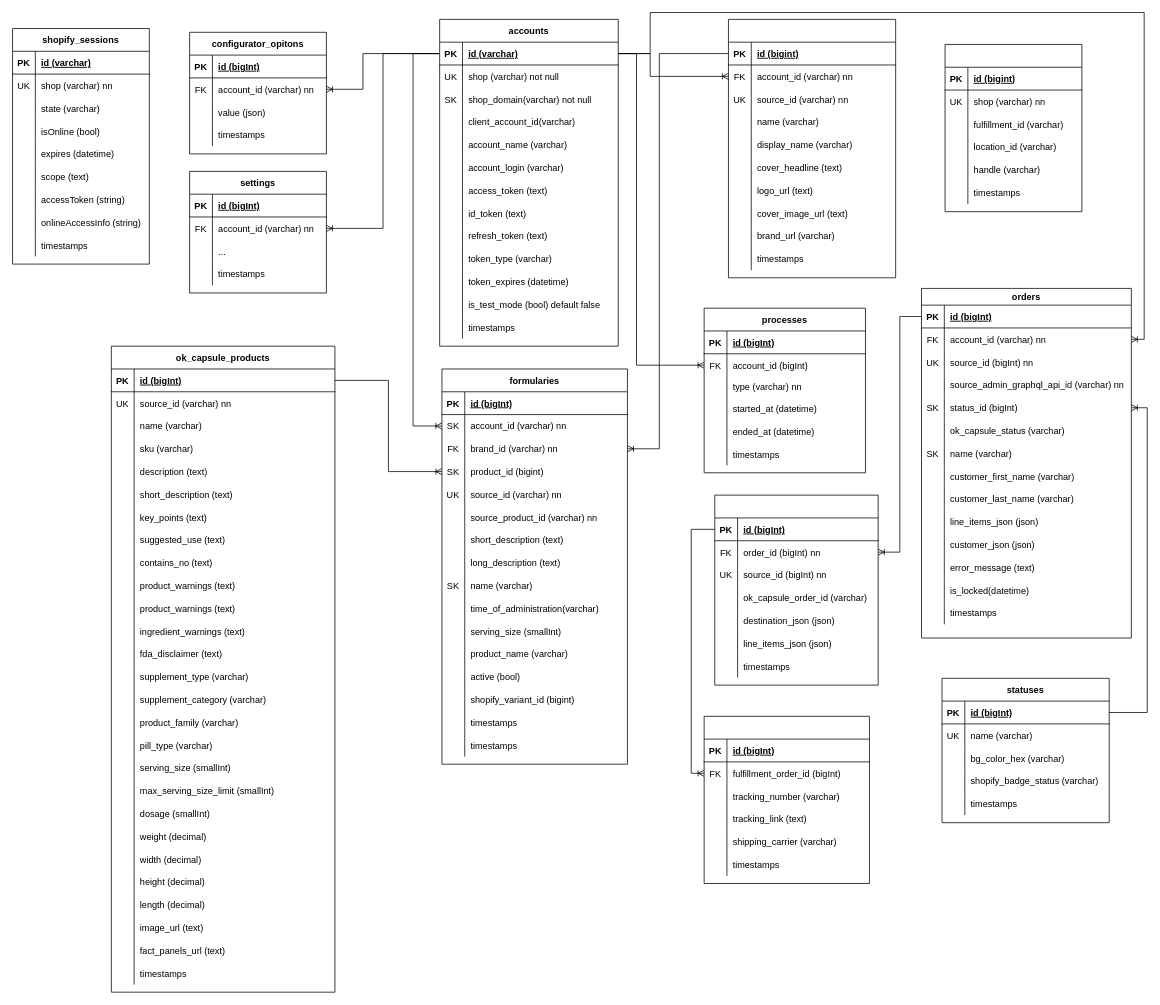
This 1160x1005 diagram has some shape labels left out. The box of each missing label's shape, as (x1, y1, x2, y2) in pixels:
brands: (728, 19, 896, 278)
fulfillment_orders: (714, 494, 878, 685)
fulfillment_services: (944, 44, 1082, 212)
ok_capsule_fulfillments: (703, 716, 869, 884)
